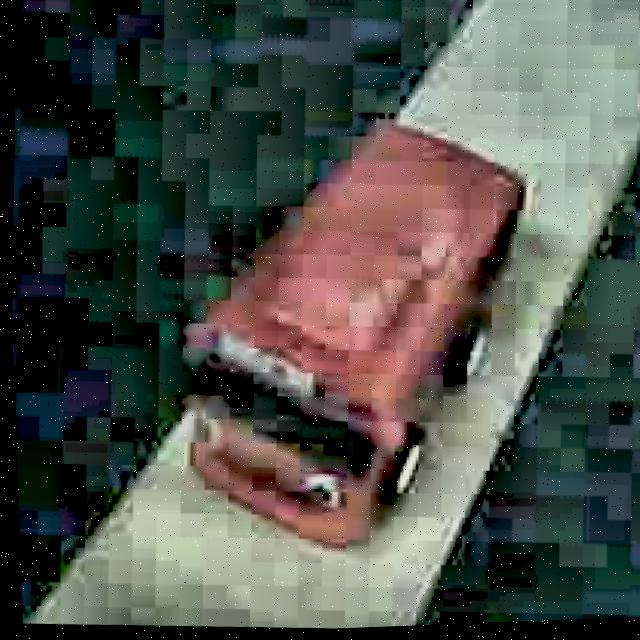bus: (166, 100, 544, 570)
